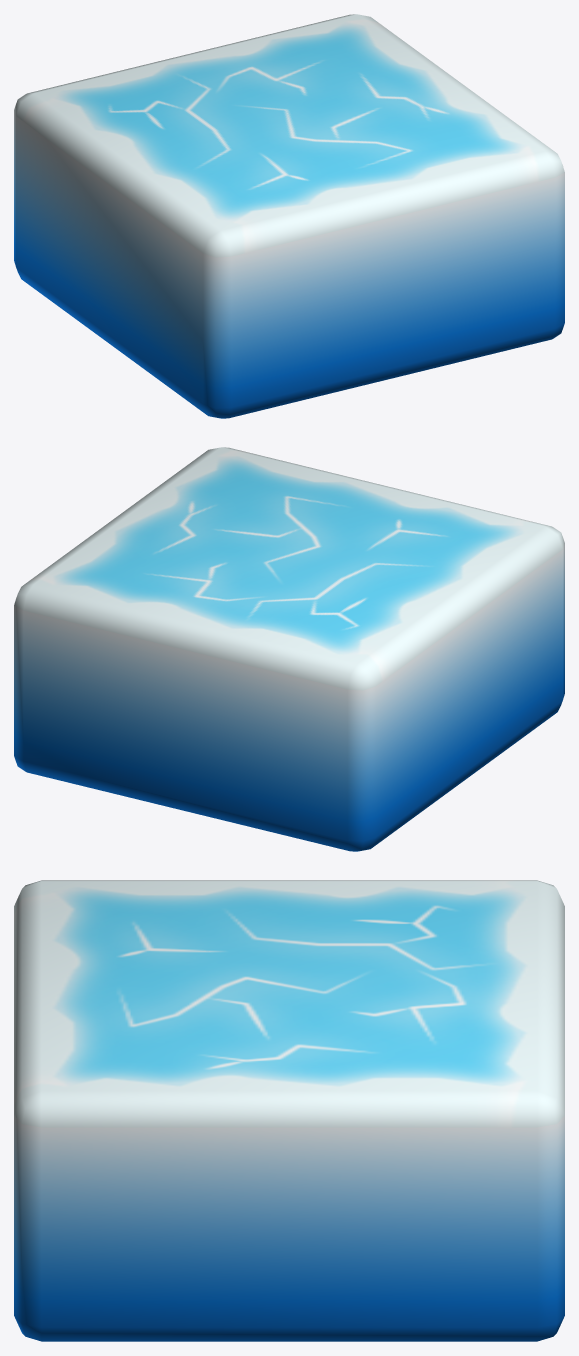
Rendered from 3D_Tile_Ice_01A.fbx.
3 renders of one model, top to bottom at view 1: azimuth 30°, elevation 25°; view 2: azimuth 150°, elevation 25°; view 3: azimuth 270°, elevation 25°, orthographic. The views are drawn at different scales.
Visible parts, largest first — view 1: 3D_Tile_Ice_01A; view 2: 3D_Tile_Ice_01A; view 3: 3D_Tile_Ice_01A.
Part boxes in pixels (<box>): 3D_Tile_Ice_01A: <box>14,14,564,418</box>; 3D_Tile_Ice_01A: <box>14,447,564,851</box>; 3D_Tile_Ice_01A: <box>14,880,564,1341</box>.
Bounding box in the file's own units: 200 × 100 × 200.
